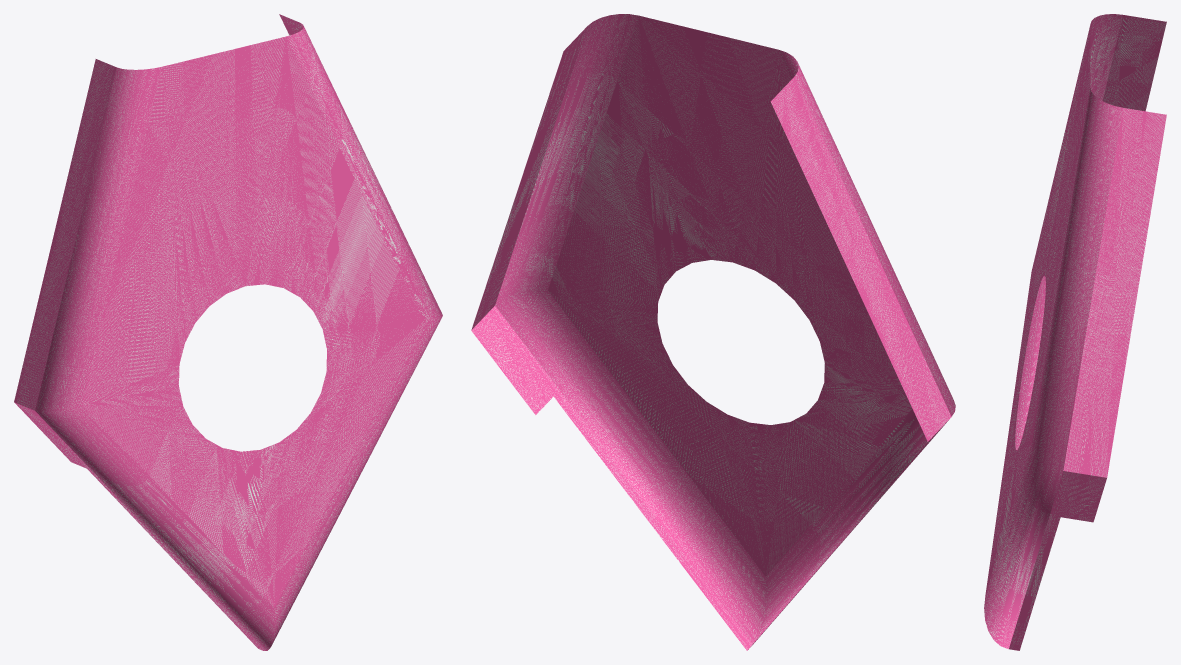
Rendered from original-2.obj.
3 renders of one model, left to right at view 1: azimuth 30°, elevation 25°; view 2: azimuth 150°, elevation 25°; view 3: azimuth 270°, elevation 25°, orthographic. The views are drawn at different scales.
Visible parts, largest first — view 1: 3dw.e450a063965ce182372d50f0ef237781/Model/mesh1/mesh1-geometry/; view 2: 3dw.e450a063965ce182372d50f0ef237781/Model/mesh1/mesh1-geometry/; view 3: 3dw.e450a063965ce182372d50f0ef237781/Model/mesh1/mesh1-geometry/.
Part boxes in pixels (x1=…): 3dw.e450a063965ce182372d50f0ef237781/Model/mesh1/mesh1-geometry/: x1=14, y1=14, x2=442, y2=650; 3dw.e450a063965ce182372d50f0ef237781/Model/mesh1/mesh1-geometry/: x1=471, y1=14, x2=955, y2=650; 3dw.e450a063965ce182372d50f0ef237781/Model/mesh1/mesh1-geometry/: x1=984, y1=14, x2=1166, y2=650.
Bounding box in the file's own units: 0.1396 × 0.1889 × 0.0526.
